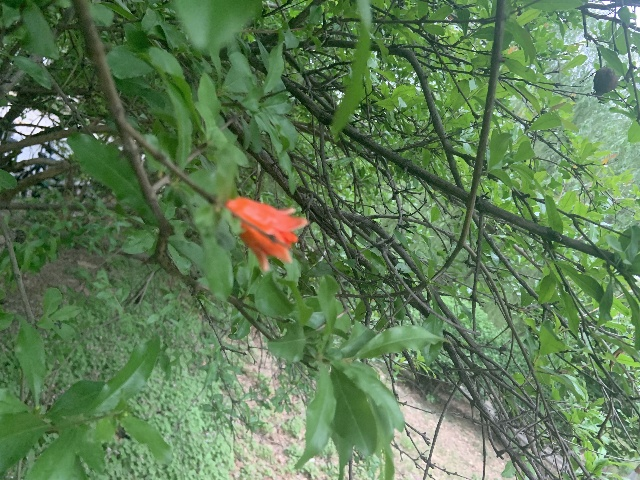flower: (226, 197, 308, 270)
